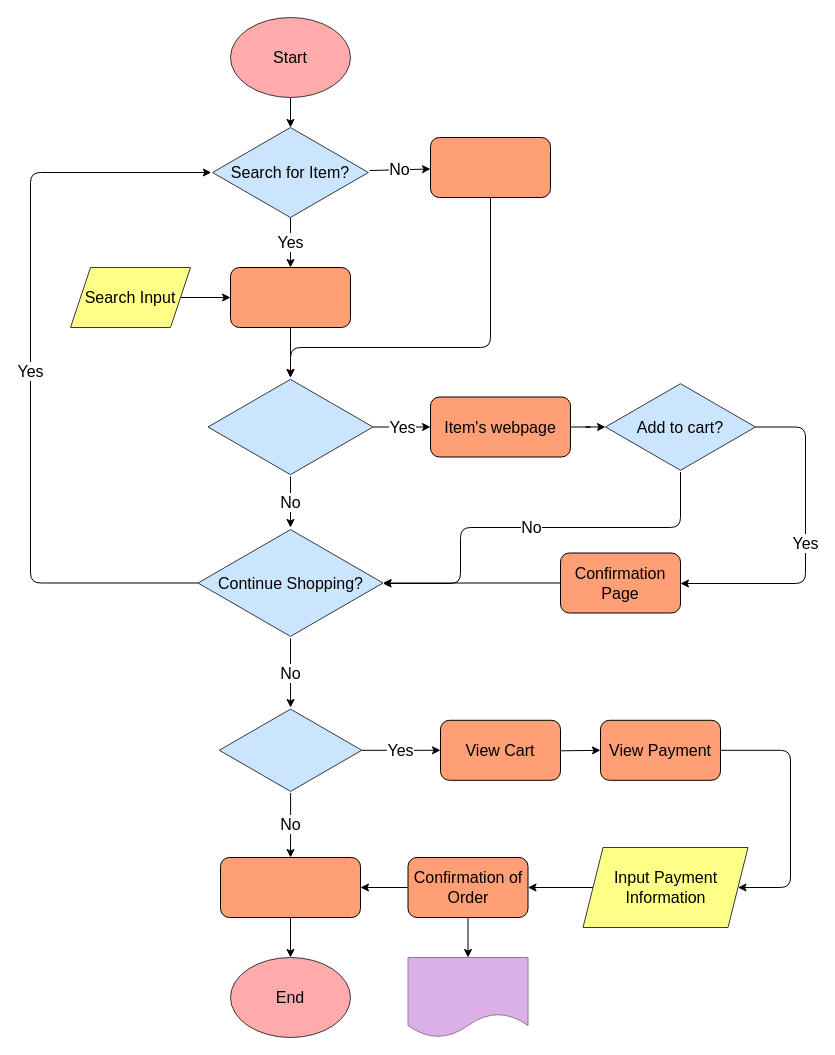
Image size: 835x1055. Some labels were removed from this diagram. The centre of each missing label's shape, as x and y in pixels:
"Checkout?" goes at [290,749].
"Confirmation Email" goes at [467,997].
"Homepage items" goes at [490,167].
"Page of items filtered by search" goes at [290,297].
"User leaves site" goes at [290,887].
"View specific item?" goes at [290,426].
